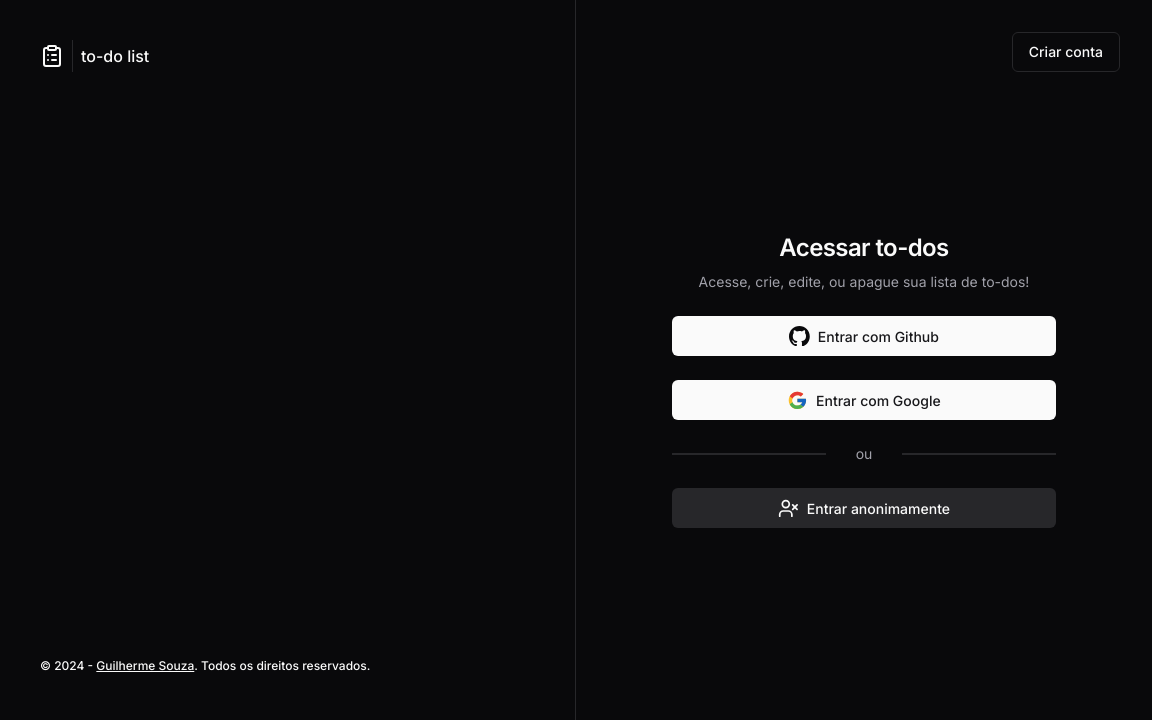
Test: Anonymous dashboard › should open new to-do
Click the button with test id "sign-in-anon-btn" at (864, 508), box [672,488,1056,528]
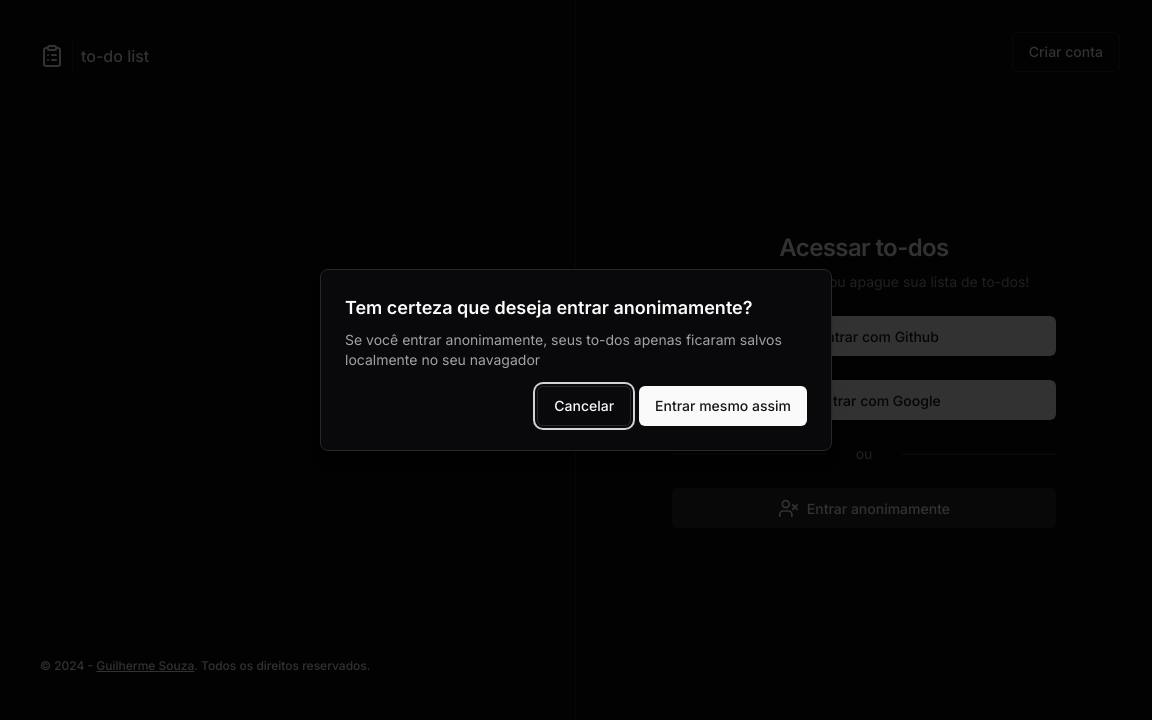
Click the button "Entrar mesmo assim" at (723, 406), box [639,386,807,426]
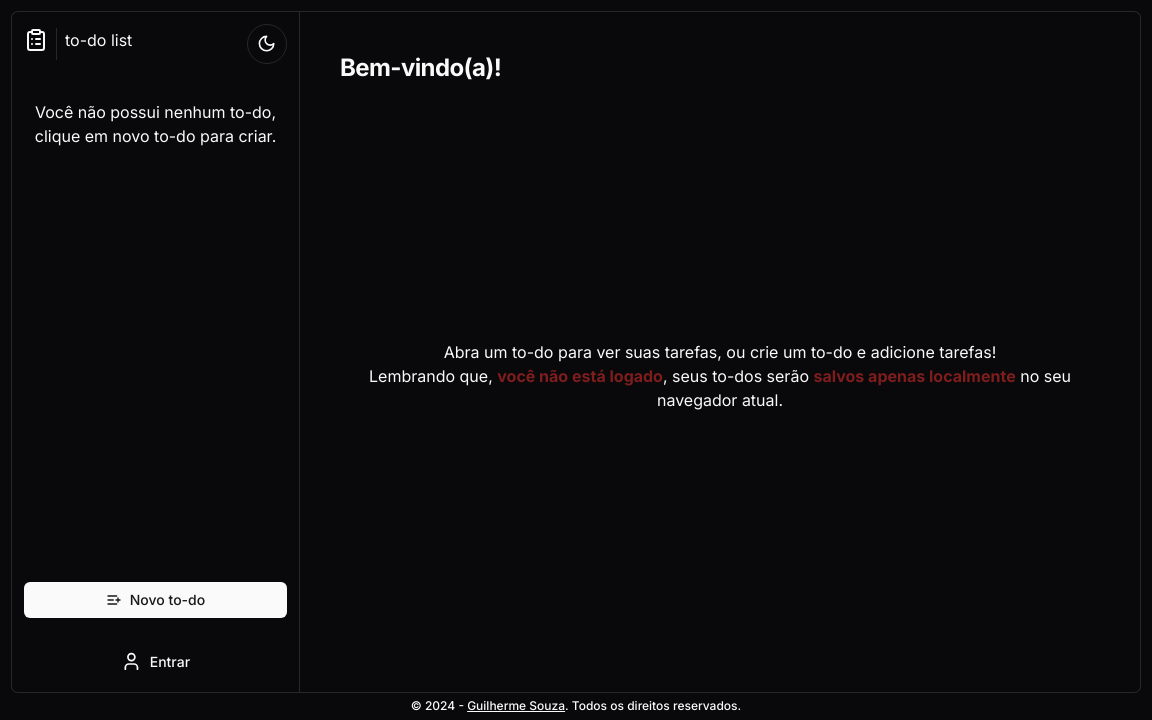
Click the button "Novo to-do" at (156, 600), box [24,582,287,618]
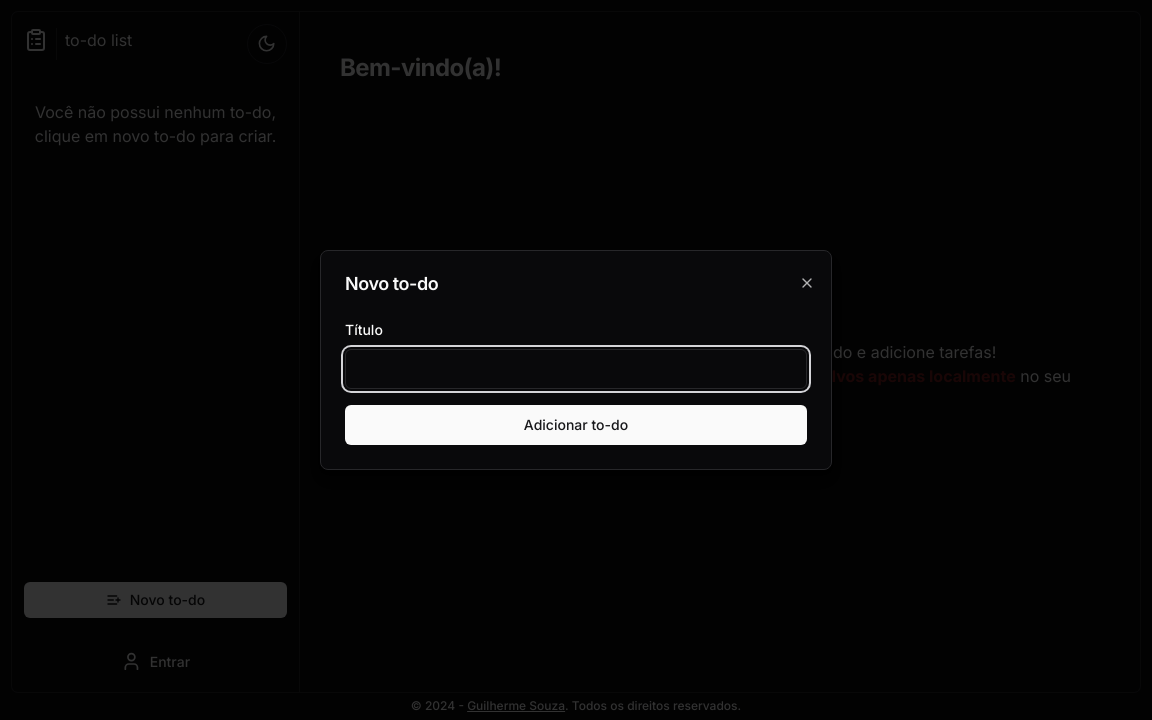
Type "teste new to-do" into the field at (576, 369), box [345,349,807,389]
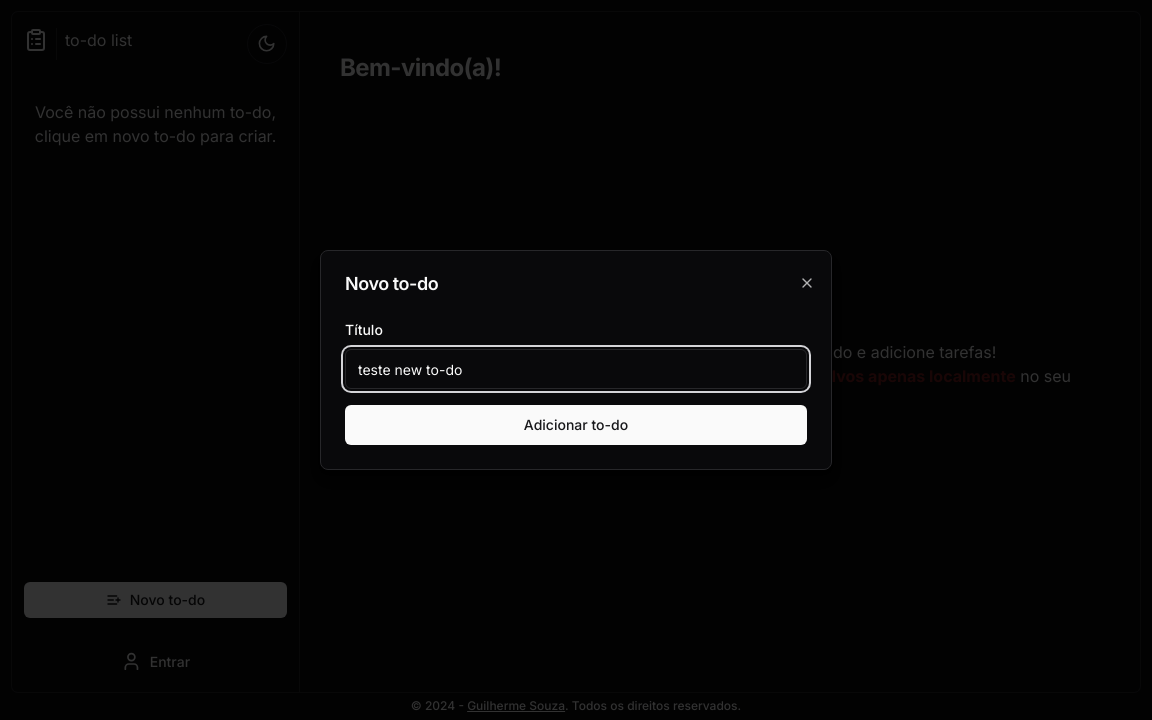
Click the button "Adicionar to-do" at (576, 425), box [345,405,807,445]
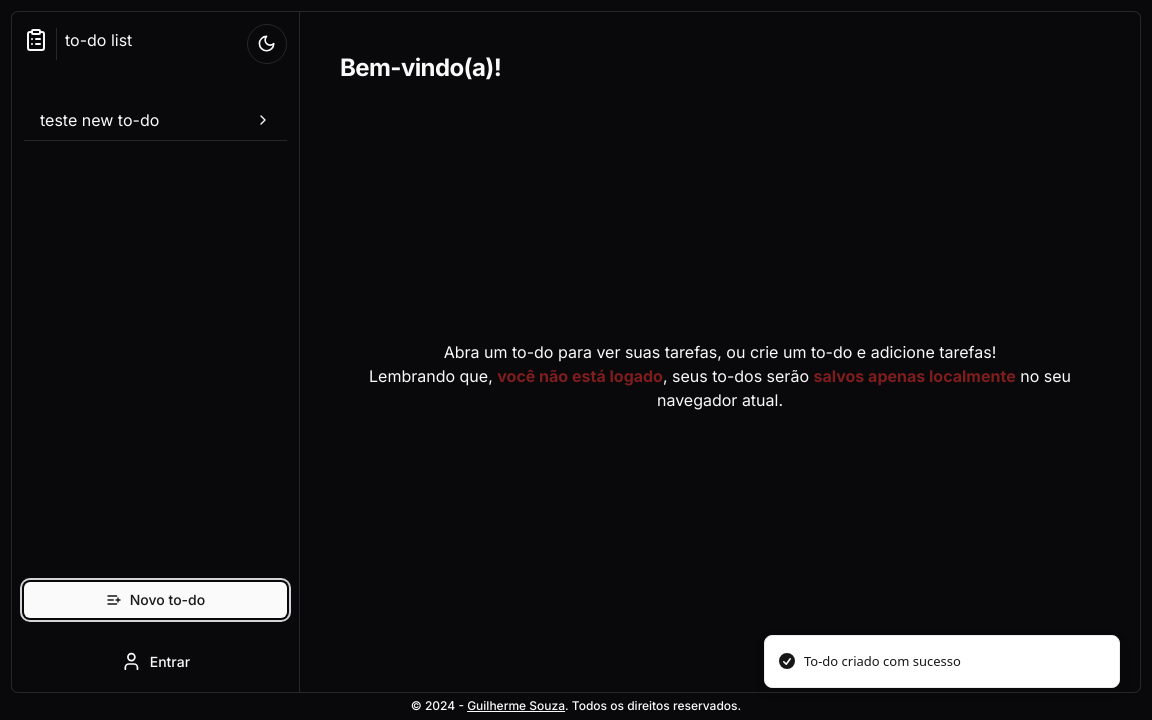
Click the link "teste new to-do" at (156, 120), box [40,110,271,130]
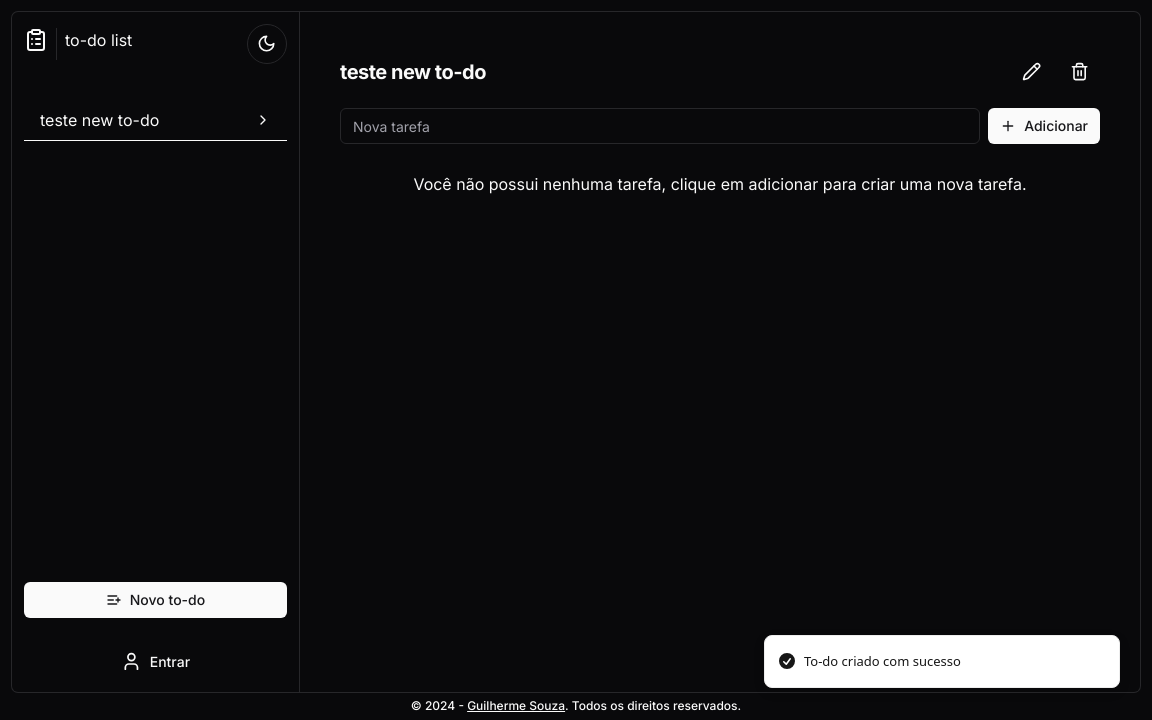
Expected: the 1st heading "teste new to-do" is shown, [340,58,486,86]
